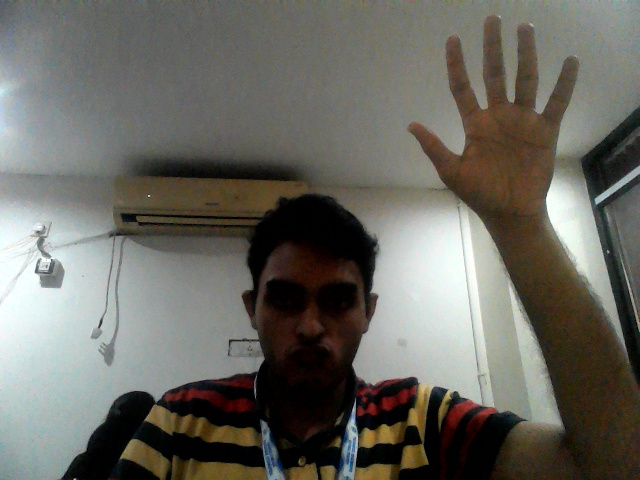palm: (404, 7, 585, 217)
